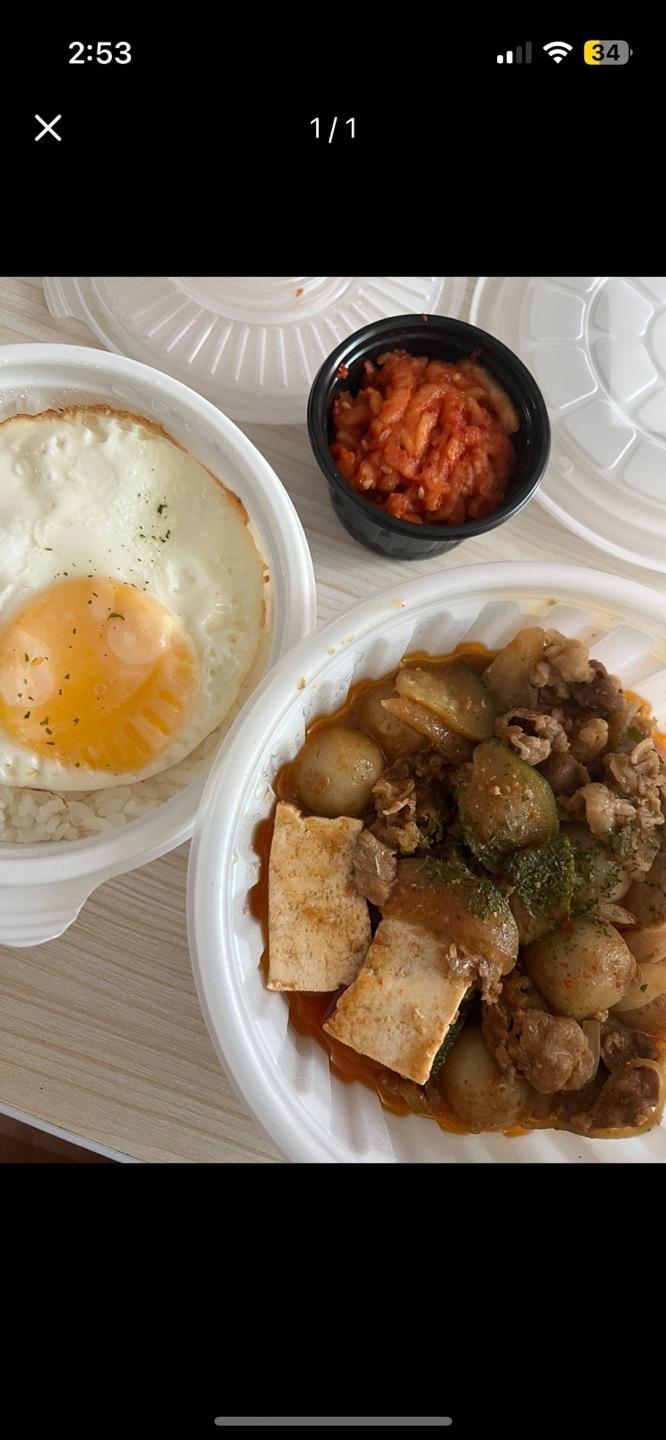Lunch Box: (187, 564, 665, 1162), (0, 345, 315, 946), (44, 276, 465, 424), (470, 275, 665, 572)
cup: (307, 314, 550, 560)
